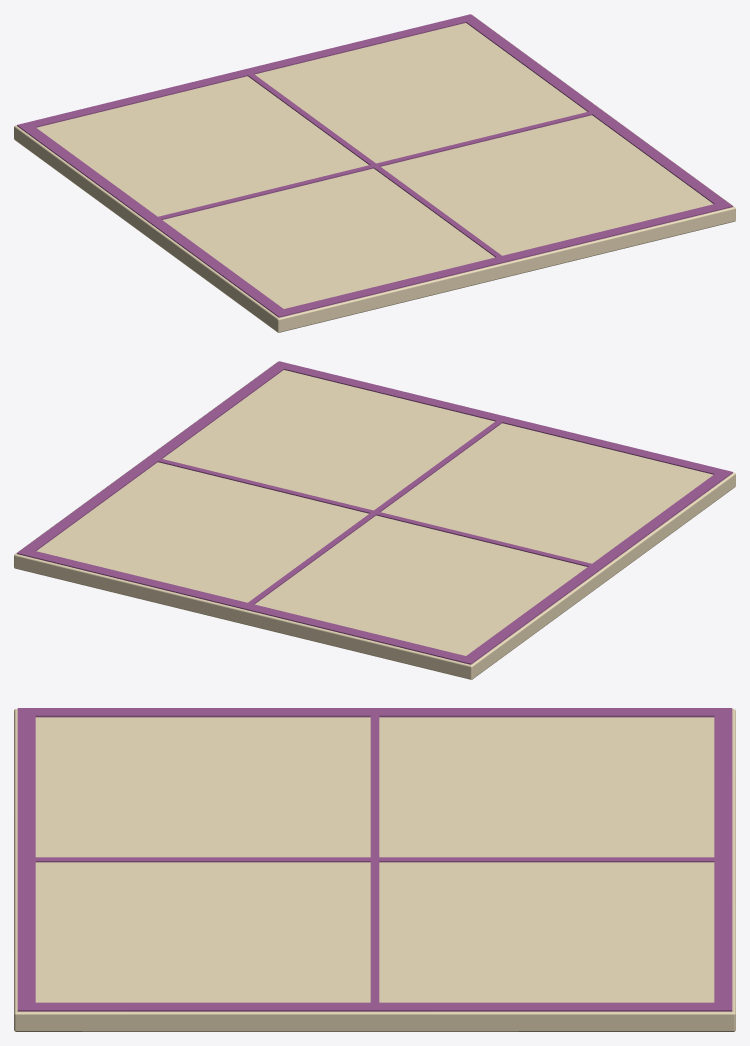
File: pharmacy-and-high-street-chemist-shop-floor-tile-warm-ddb9bb9b__37489.glb
The picture shows the model from 3 angles, top to bottom: view 1: azimuth 30°, elevation 25°; view 2: azimuth 150°, elevation 25°; view 3: azimuth 270°, elevation 25°; orthographic projection. The views are drawn at different scales.
Parts seen in each view (by area): view 1: shop-floor-tile-warm; view 2: shop-floor-tile-warm; view 3: shop-floor-tile-warm.
Boxes of the visible parts, x1=… form: shop-floor-tile-warm: x1=14, y1=14, x2=735, y2=332; shop-floor-tile-warm: x1=14, y1=361, x2=735, y2=679; shop-floor-tile-warm: x1=14, y1=708, x2=735, y2=1031.
Bounding box in the file's own units: 2 × 0.0646 × 2.
